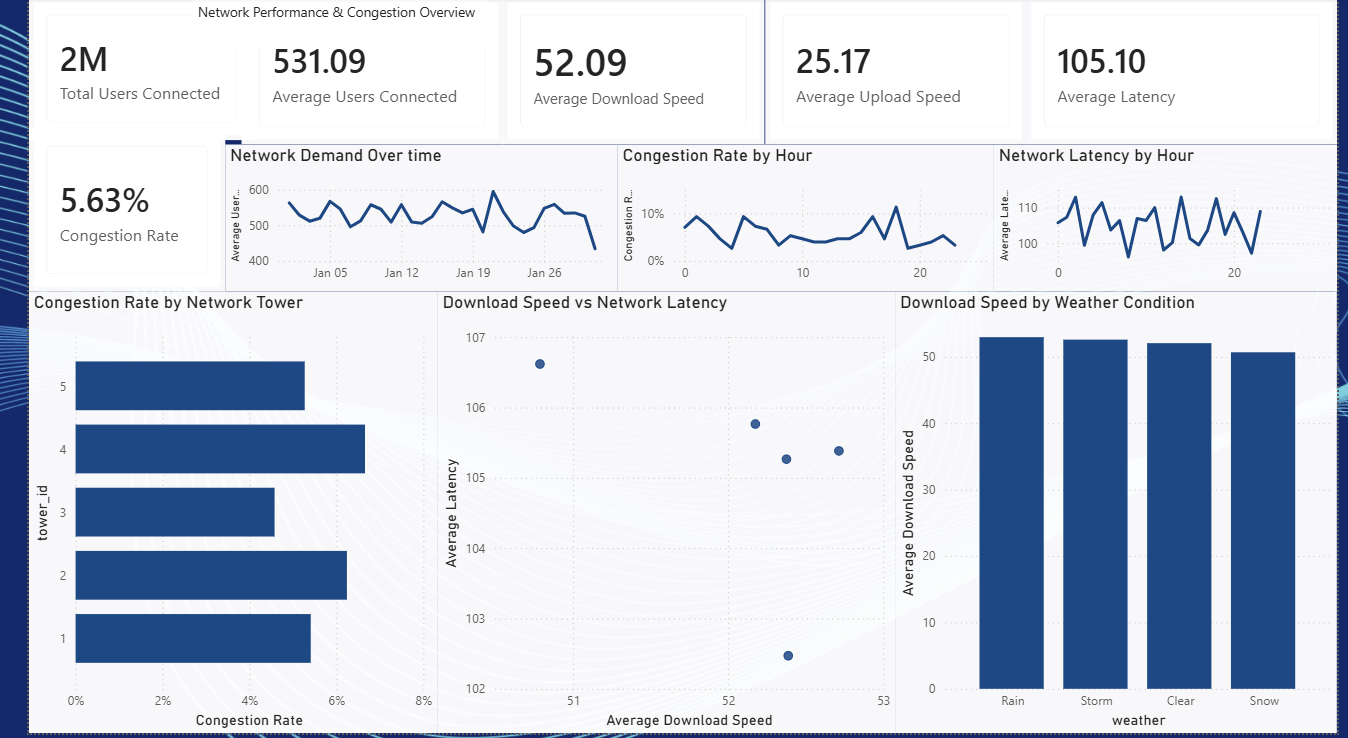

The page's visual inventory and layout, read from the dashboard file:
{"tool":"powerbi","page":{"name":"Page 1","canvas":[1280,720],"ordinal":0},"visuals":[{"type":"cardVisual","fields":{"Data":["Telecom_Network_Data.Total Users Connected"]},"box":[0,0,220,140],"z":0},{"type":"cardVisual","fields":{"Data":["Telecom_Network_Data.Average Users Connected"]},"box":[208,0,256,144],"z":1000},{"type":"cardVisual","fields":{"Data":["Telecom_Network_Data.Average Download Speed"]},"box":[464,0,256,144],"z":2000},{"type":"cardVisual","fields":{"Data":["Telecom_Network_Data.Average Upload Speed"]},"box":[720,0,256,144],"z":3000},{"type":"cardVisual","fields":{"Data":["Telecom_Network_Data.Average Latency"]},"box":[976,0,304,144],"z":4000},{"type":"cardVisual","fields":{"Data":["Telecom_Network_Data.Congestion Rate"]},"box":[0,128,192,160],"z":5000},{"type":"lineChart","title":"Network Demand Over time","fields":{"Category":["DateTable.Date"],"Y":["Telecom_Network_Data.Average Users Connected"]},"box":[192,144,384,144],"z":6000},{"type":"lineChart","fields":{"Category":["Telecom_Network_Data.Hour"],"Y":["Telecom_Network_Data.Congestion Rate"]},"box":[576,144,368,144],"z":7000},{"type":"lineChart","title":"Network Latency by Hour","fields":{"Category":["Telecom_Network_Data.Hour"],"Y":["Telecom_Network_Data.Average Latency"]},"box":[944,144,336,144],"z":8000},{"type":"clusteredBarChart","title":"Congestion Rate by Network Tower","fields":{"Category":["Telecom_Network_Data.tower_id"],"Y":["Telecom_Network_Data.Congestion Rate"]},"box":[0,288,400,432],"z":9000},{"type":"scatterChart","title":"Download Speed vs Network Latency","fields":{"Category":["Telecom_Network_Data.tower_id"],"X":["Telecom_Network_Data.Average Download Speed"],"Y":["Telecom_Network_Data.Average Latency"]},"box":[400,288,448,432],"z":10000},{"type":"clusteredColumnChart","title":"Download Speed by Weather Condition","fields":{"Category":["Telecom_Network_Data.weather"],"Y":["Telecom_Network_Data.Average Download Speed"]},"box":[848,288,432,432],"z":11000},{"type":"textbox","box":[160,0,288,48],"z":12000}]}

Visuals, with their boxes in screenshot pixels (x1, y1, x2, y2), scaled from the page's 1280x720 canvas onto the 1348x738 screenshot:
cardVisual - Telecom_Network_Data.Total Users Connected: {"x1": 0, "y1": 0, "x2": 232, "y2": 144}
cardVisual - Telecom_Network_Data.Average Users Connected: {"x1": 219, "y1": 0, "x2": 489, "y2": 148}
cardVisual - Telecom_Network_Data.Average Download Speed: {"x1": 489, "y1": 0, "x2": 758, "y2": 148}
cardVisual - Telecom_Network_Data.Average Upload Speed: {"x1": 758, "y1": 0, "x2": 1028, "y2": 148}
cardVisual - Telecom_Network_Data.Average Latency: {"x1": 1028, "y1": 0, "x2": 1347, "y2": 148}
cardVisual - Telecom_Network_Data.Congestion Rate: {"x1": 0, "y1": 131, "x2": 202, "y2": 295}
"Network Demand Over time" lineChart: {"x1": 202, "y1": 148, "x2": 607, "y2": 295}
lineChart - Telecom_Network_Data.Hour x Telecom_Network_Data.Congestion Rate: {"x1": 607, "y1": 148, "x2": 994, "y2": 295}
"Network Latency by Hour" lineChart: {"x1": 994, "y1": 148, "x2": 1347, "y2": 295}
"Congestion Rate by Network Tower" clusteredBarChart: {"x1": 0, "y1": 295, "x2": 421, "y2": 737}
"Download Speed vs Network Latency" scatterChart: {"x1": 421, "y1": 295, "x2": 893, "y2": 737}
"Download Speed by Weather Condition" clusteredColumnChart: {"x1": 893, "y1": 295, "x2": 1347, "y2": 737}
textbox: {"x1": 168, "y1": 0, "x2": 472, "y2": 49}
